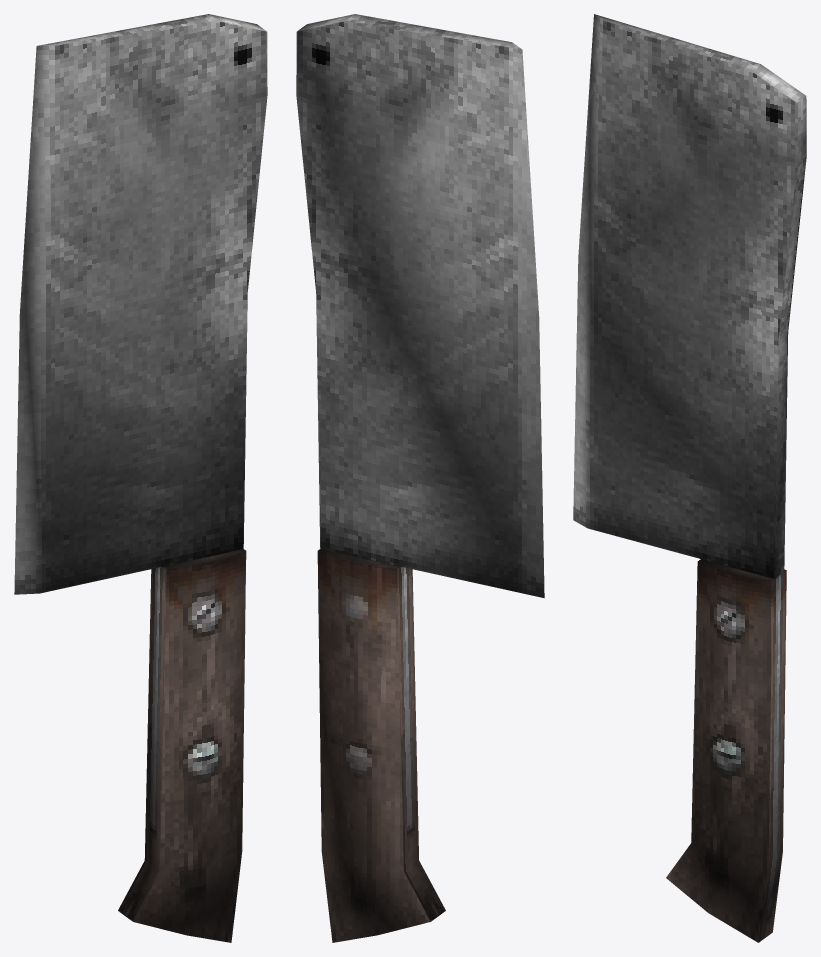
The model's file is Cleaver(glb).glb.
3 renders of one model, left to right at view 1: azimuth 30°, elevation 25°; view 2: azimuth 150°, elevation 25°; view 3: azimuth 330°, elevation 25°, orthographic. The views are drawn at different scales.
Visible parts, largest first — view 1: Cleaver; view 2: Cleaver; view 3: Cleaver.
Boxes of the visible parts, x1=… form: Cleaver: x1=14, y1=14, x2=267, y2=942; Cleaver: x1=296, y1=14, x2=544, y2=942; Cleaver: x1=573, y1=14, x2=806, y2=942.
Bounding box in the file's own units: 0.0887 × 0.3225 × 0.0145.
Materials: 1 (1 with a texture image).
